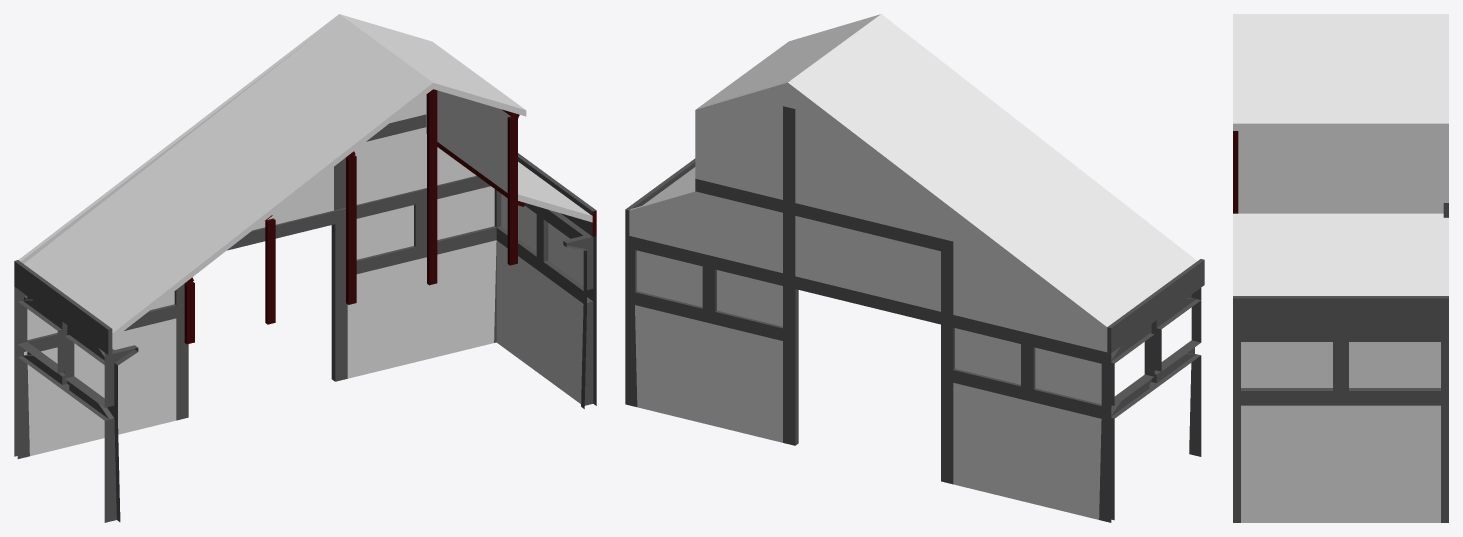
Rendered from SM_Factory_A.fbx.
3 renders of one model, left to right at view 1: azimuth 30°, elevation 25°; view 2: azimuth 150°, elevation 25°; view 3: azimuth 270°, elevation 25°, orthographic. The views are drawn at different scales.
Parts seen in each view (by area): view 1: Factory_Frame_A, Factory_PillarsAndBeams_A; view 2: Factory_Frame_A, Factory_PillarsAndBeams_A; view 3: Factory_Frame_A, Factory_PillarsAndBeams_A.
Boxes of the visible parts, bbox=[...] form: Factory_Frame_A: bbox=[14, 14, 596, 354]; Factory_PillarsAndBeams_A: bbox=[14, 175, 596, 522]; Factory_Frame_A: bbox=[625, 14, 1204, 353]; Factory_PillarsAndBeams_A: bbox=[625, 235, 1201, 522]; Factory_Frame_A: bbox=[1233, 14, 1448, 327]; Factory_PillarsAndBeams_A: bbox=[1233, 327, 1448, 522].
Size of the model in its own units: 12 by 4 by 8.53.
